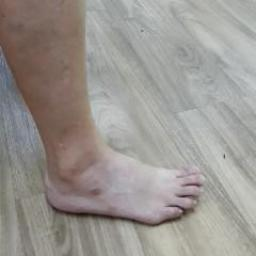Lateral View -Right Foot-: (22, 110, 230, 241)
